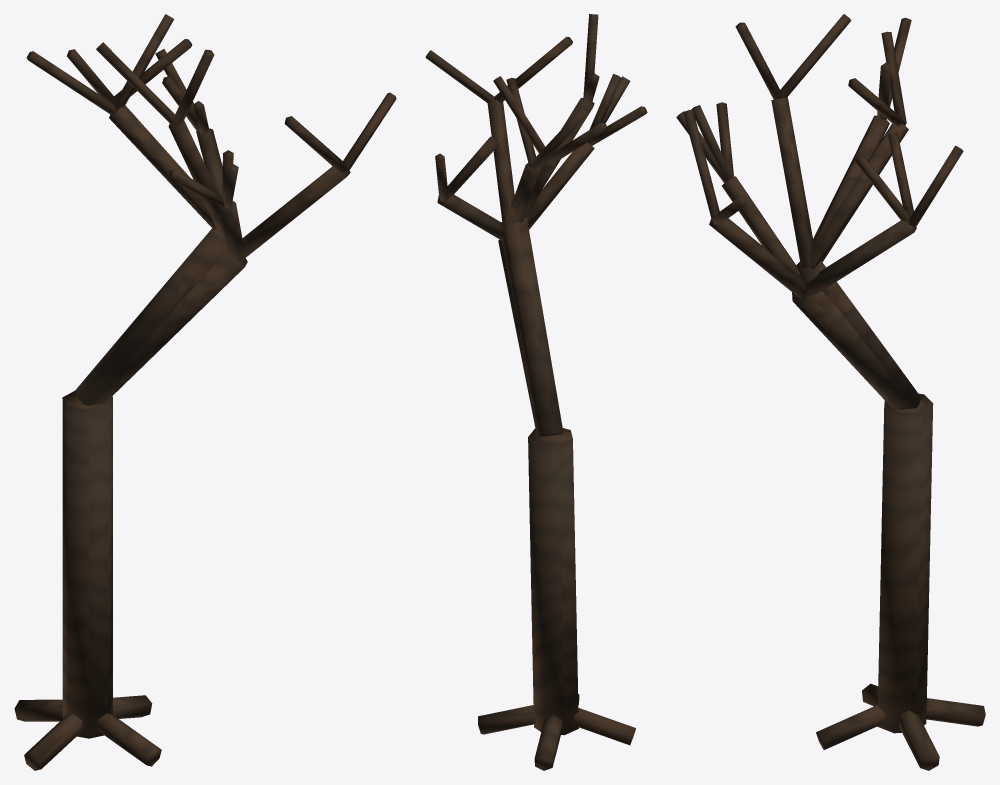
File: NT01_dead_tree_v2.glb
The picture shows the model from 3 angles, left to right: view 1: azimuth 30°, elevation 25°; view 2: azimuth 150°, elevation 25°; view 3: azimuth 270°, elevation 25°; orthographic projection. The views are drawn at different scales.
Visible parts, largest first — view 1: NT01_dead_tree_v2; view 2: NT01_dead_tree_v2; view 3: NT01_dead_tree_v2.
Part boxes in pixels (x1,y1,x2,y2): NT01_dead_tree_v2: [14, 14, 396, 770]; NT01_dead_tree_v2: [425, 14, 647, 770]; NT01_dead_tree_v2: [676, 14, 985, 770].
Size of the model in its own units: 2.55 by 6 by 2.29.
Materials: 1 (1 with a texture image).
